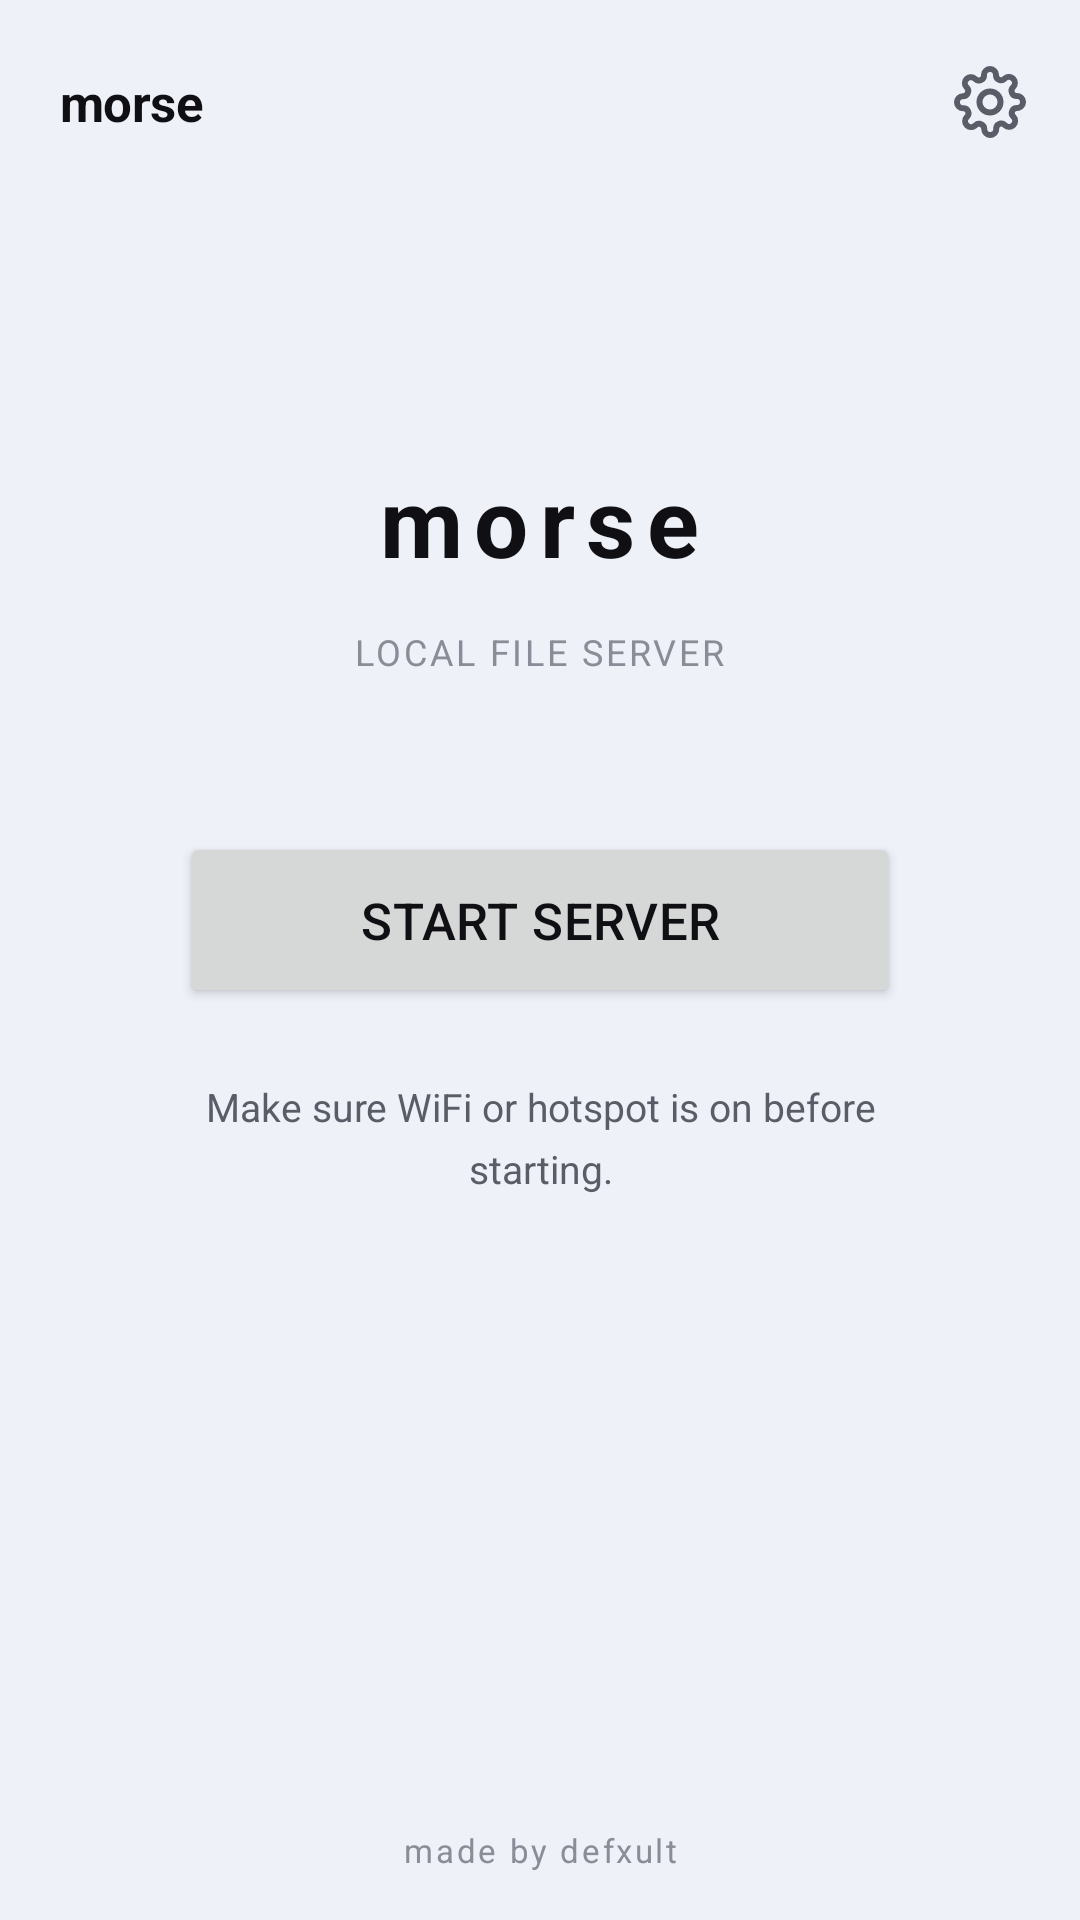

Screen size 1080 × 1920. Icon name, then its box in pixels as [x1,y1,x2,y2]:
Settings: [954,66,1026,138]
